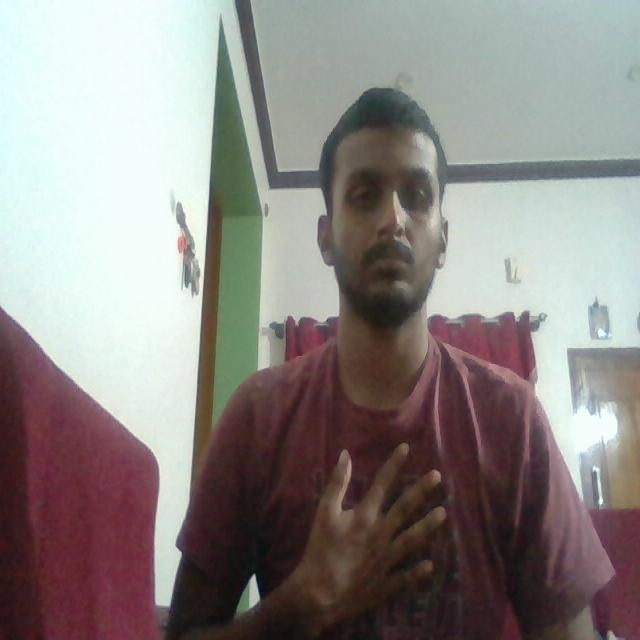please: (309, 437, 464, 623)
